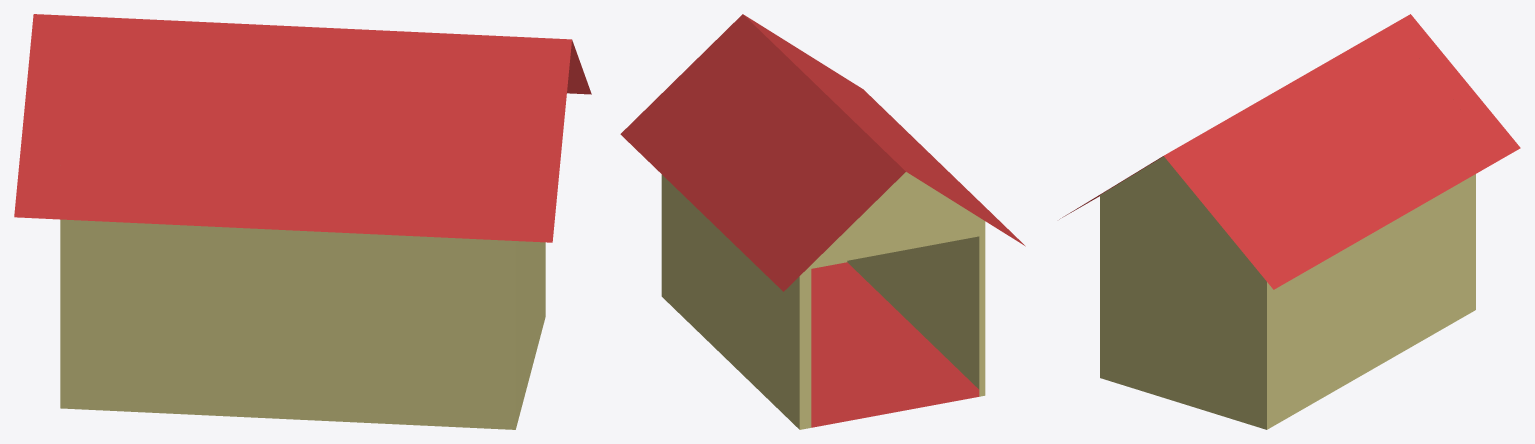
The picture shows the model from 3 angles, left to right: view 1: azimuth 30°, elevation 25°; view 2: azimuth 150°, elevation 25°; view 3: azimuth 270°, elevation 25°; orthographic projection. The views are drawn at different scales.
Bounding box in the file's own units: 23.18 × 21.74 × 13.33.
